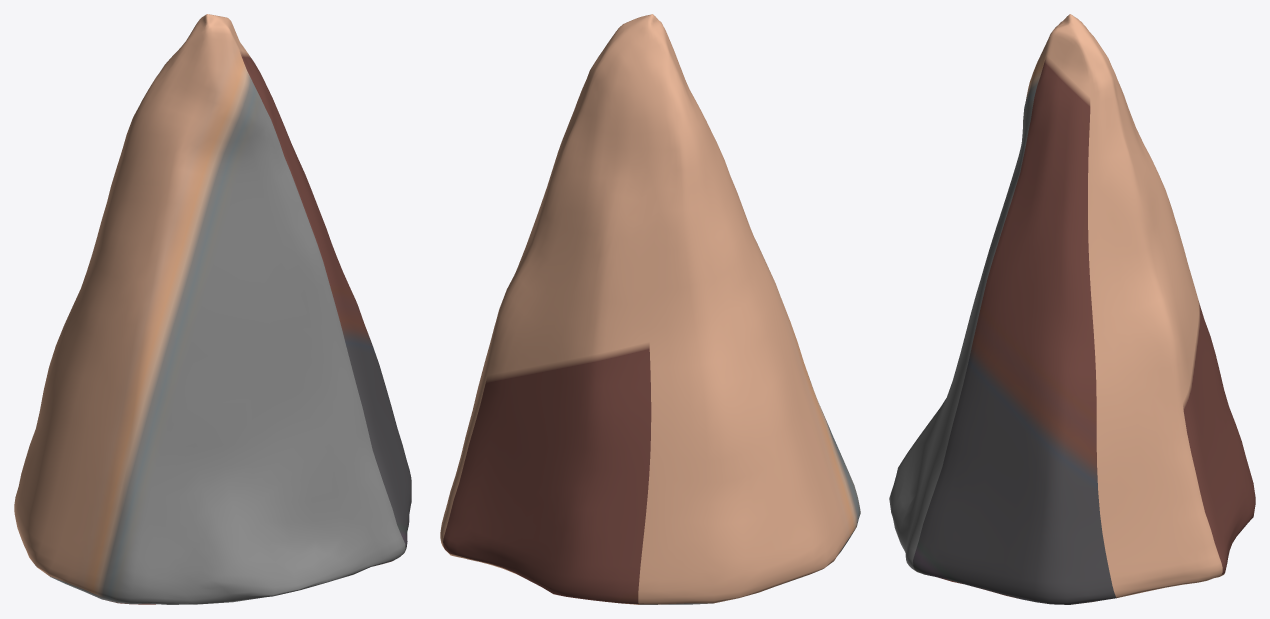
The model's file is SM_BoulderHigh2_LOD0.fbx.
3 views of the same model, side by side, from view 1: azimuth 30°, elevation 25°; view 2: azimuth 150°, elevation 25°; view 3: azimuth 270°, elevation 25° (orthographic). The views are drawn at different scales.
Parts seen in each view (by area): view 1: SM_Boulder2_LOD2; view 2: SM_Boulder2_LOD2; view 3: SM_Boulder2_LOD2.
Part boxes in pixels (x1,y1,x2,y2): SM_Boulder2_LOD2: (14, 14, 411, 604); SM_Boulder2_LOD2: (440, 14, 860, 604); SM_Boulder2_LOD2: (889, 14, 1255, 604).
Size of the model in its own units: 7.12 by 9.69 by 6.37.
